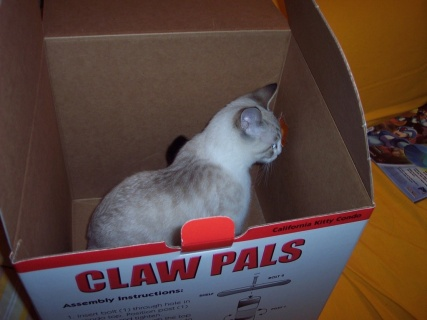Cat: (81, 82, 283, 247)
